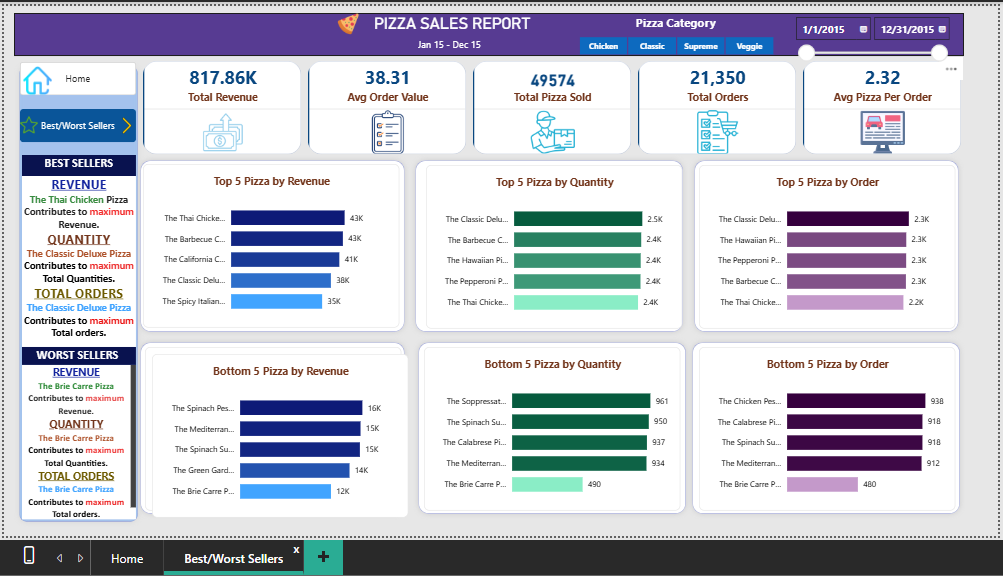

What the dashboard file says about the page in this screenshot:
{"tool":"powerbi","page":{"name":"Best/Worst Sellers","canvas":[1500,800],"ordinal":1},"visuals":[{"type":"shape","box":[15,83.3,195,703.3],"z":0},{"type":"cardVisual","fields":{"Data":["pizza_sales.Total Revenue","pizza_sales.Avg Order Value","pizza_sales.Total Pizza Sold","pizza_sales.Total Orders","pizza_sales.Avg Pizza Per Order"]},"box":[210,83.3,1238.3,141.7],"z":1000},{"type":"textbox","box":[15,10,1433.3,65],"z":2000},{"type":"textbox","box":[625,48.3,116.2,30],"z":3000},{"type":"image","box":[498.3,10,43.3,33.3],"z":4000},{"type":"shape","box":[198.3,225,415,275],"z":5000},{"type":"textbox","box":[558.3,11.7,268.8,33.8],"z":6000},{"type":"textbox","box":[26.7,225,171.7,31.7],"z":7000},{"type":"textbox","box":[26.7,256.7,171.7,258.3],"z":8000},{"type":"textbox","box":[26.7,515,171.7,26.7],"z":9000},{"type":"textbox","box":[26.7,541.7,171.7,233.3],"z":10000},{"type":"slicer","title":"Pizza Category","fields":{"Values":["pizza_sales.pizza_category"]},"box":[848.3,11.7,331.7,63.3],"z":11000},{"type":"slicer","title":"Pizza Category","fields":{"Values":["pizza_sales.order_date"]},"box":[1188.3,11.7,240,71.7],"z":12000},{"type":"shape","box":[613.3,225,420,275],"z":13000},{"type":"shape","box":[1033.3,225,415,275],"z":14000},{"type":"shape","box":[198.3,500,415,275],"z":15000},{"type":"shape","box":[616.7,500,420,275],"z":16000},{"type":"shape","box":[1031.7,500,420,275],"z":17000},{"type":"barChart","title":"Top 5 Pizza by Revenue","fields":{"Category":["pizza_sales.pizza_name"],"Y":["pizza_sales.Total Revenue"]},"box":[210,238.3,386.7,246.7],"z":18000},{"type":"barChart","title":"Bottom 5 Pizza by Revenue","fields":{"Category":["pizza_sales.pizza_name"],"Y":["pizza_sales.Total Revenue"]},"box":[213.3,515,386.7,246.7],"z":19000},{"type":"barChart","title":"Bottom 5 Pizza by Revenue","fields":{"Category":["pizza_sales.pizza_name"],"Y":["pizza_sales.Total Revenue"]},"box":[223.3,525,386.7,246.7],"z":20000},{"type":"barChart","title":"Top 5 Pizza by Quantity","fields":{"Category":["pizza_sales.pizza_name"],"Y":["pizza_sales.Total Pizza Sold"]},"box":[636.7,240,386.7,246.7],"z":21000},{"type":"barChart","title":"Bottom 5 Pizza by Quantity","fields":{"Category":["pizza_sales.pizza_name"],"Y":["pizza_sales.Total Pizza Sold"]},"box":[633.3,515,386.7,246.7],"z":22000},{"type":"barChart","title":"Top 5 Pizza by Order","fields":{"Category":["pizza_sales.pizza_name"],"Y":["pizza_sales.Total Orders"]},"box":[1048.3,240,386.7,246.7],"z":23000},{"type":"barChart","title":"Bottom 5 Pizza by Order","fields":{"Category":["pizza_sales.pizza_name"],"Y":["pizza_sales.Total Orders"]},"box":[1048.3,515,386.7,246.7],"z":24000},{"type":"pageNavigator","box":[24.2,83.9,175.8,50],"z":24001},{"type":"pageNavigator","box":[24.2,154.8,175.8,50],"z":24002},{"type":"image","box":[173.6,155.5,24.2,49.8],"z":24003},{"type":"image","box":[27.2,90.6,46.8,43.8],"z":24004},{"type":"image","box":[24.2,154,27.2,51.3],"z":24005}]}

Visuals, with their boxes on the page's 1500x800 design canvas (x1, y1, x2, y2). These are canvas units, not pixel positions in the 1003x576 screenshot, which may show the page scaled, cropped or inside an application window:
shape: (left=15, top=83, right=210, bottom=787)
cardVisual - pizza_sales.Total Revenue x pizza_sales.Avg Order Value: (left=210, top=83, right=1448, bottom=225)
textbox: (left=15, top=10, right=1448, bottom=75)
textbox: (left=625, top=48, right=741, bottom=78)
image: (left=498, top=10, right=542, bottom=43)
shape: (left=198, top=225, right=613, bottom=500)
textbox: (left=558, top=12, right=827, bottom=46)
textbox: (left=27, top=225, right=198, bottom=257)
textbox: (left=27, top=257, right=198, bottom=515)
textbox: (left=27, top=515, right=198, bottom=542)
textbox: (left=27, top=542, right=198, bottom=775)
"Pizza Category" slicer: (left=848, top=12, right=1180, bottom=75)
"Pizza Category" slicer: (left=1188, top=12, right=1428, bottom=83)
shape: (left=613, top=225, right=1033, bottom=500)
shape: (left=1033, top=225, right=1448, bottom=500)
shape: (left=198, top=500, right=613, bottom=775)
shape: (left=617, top=500, right=1037, bottom=775)
shape: (left=1032, top=500, right=1452, bottom=775)
"Top 5 Pizza by Revenue" barChart: (left=210, top=238, right=597, bottom=485)
"Bottom 5 Pizza by Revenue" barChart: (left=213, top=515, right=600, bottom=762)
"Bottom 5 Pizza by Revenue" barChart: (left=223, top=525, right=610, bottom=772)
"Top 5 Pizza by Quantity" barChart: (left=637, top=240, right=1023, bottom=487)
"Bottom 5 Pizza by Quantity" barChart: (left=633, top=515, right=1020, bottom=762)
"Top 5 Pizza by Order" barChart: (left=1048, top=240, right=1435, bottom=487)
"Bottom 5 Pizza by Order" barChart: (left=1048, top=515, right=1435, bottom=762)
pageNavigator: (left=24, top=84, right=200, bottom=134)
pageNavigator: (left=24, top=155, right=200, bottom=205)
image: (left=174, top=156, right=198, bottom=205)
image: (left=27, top=91, right=74, bottom=134)
image: (left=24, top=154, right=51, bottom=205)
